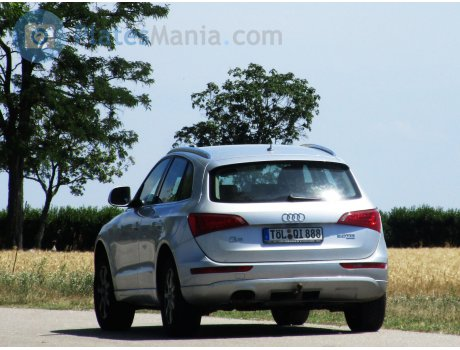License Plates: (274, 227, 322, 239)
